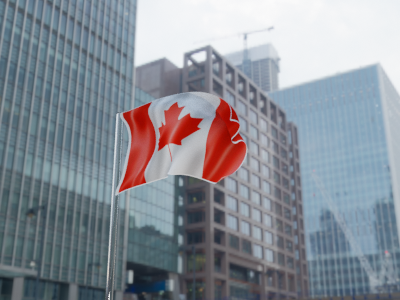Canada flag: (118, 90, 250, 195)
